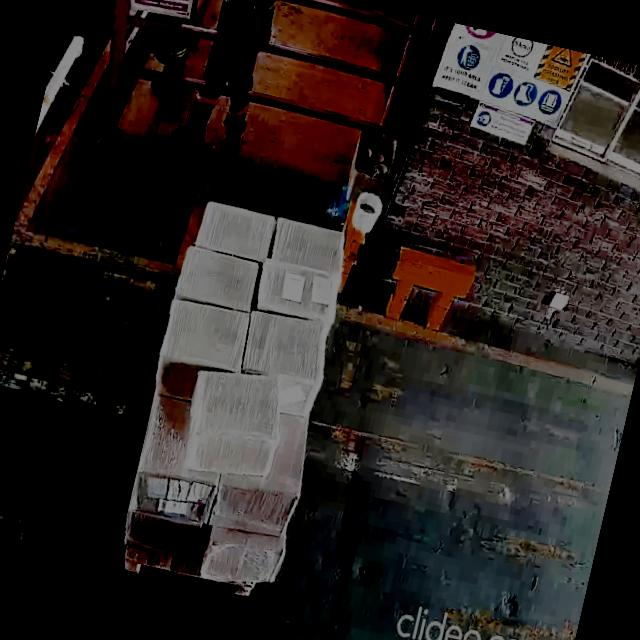Box: (170, 369, 294, 483), (238, 307, 334, 390), (157, 293, 250, 376), (212, 468, 300, 534), (174, 246, 262, 312), (128, 457, 216, 522), (252, 260, 340, 323), (192, 197, 272, 264), (266, 213, 351, 275), (203, 527, 282, 587), (120, 508, 203, 560)
